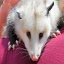opossum: (7, 1, 60, 61)
